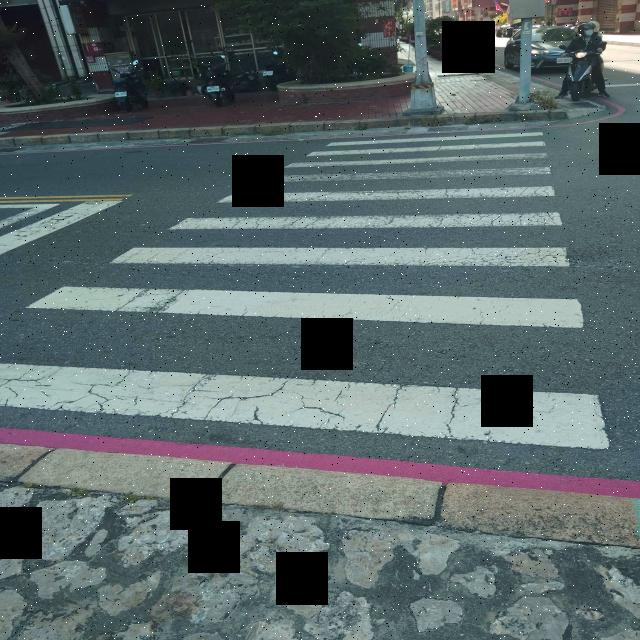person: (566, 21, 609, 98), (559, 80, 569, 96)
zebra crossing: (0, 141, 593, 444)
